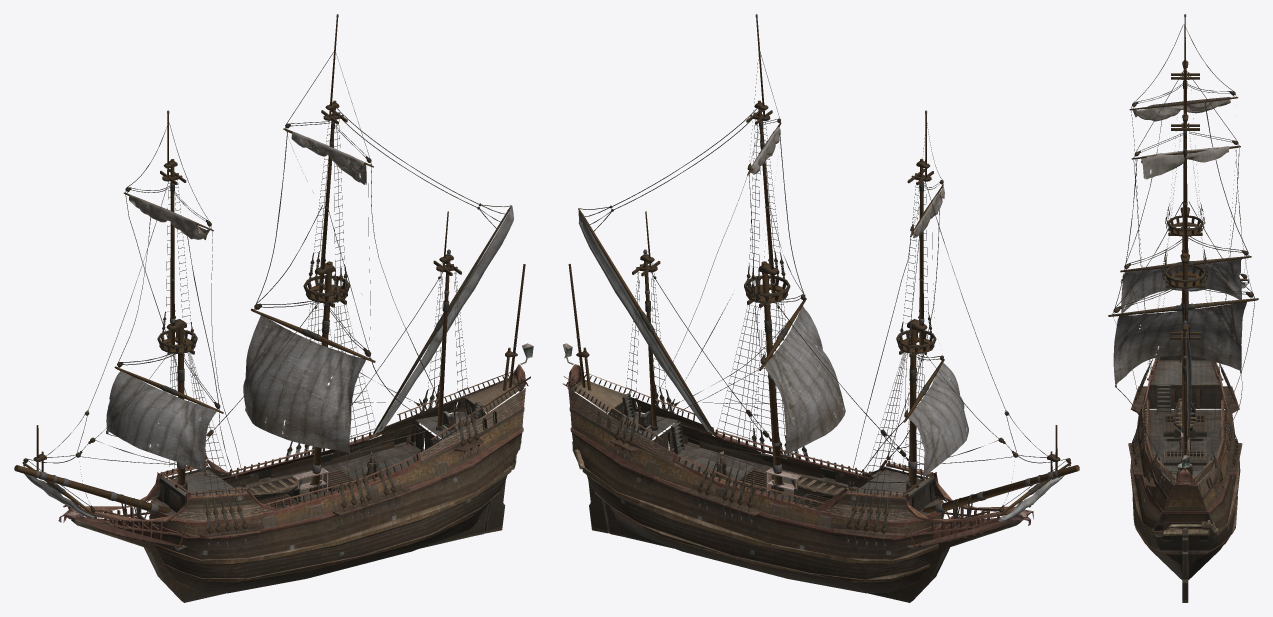
Rendered from objets.gltf.
The picture shows the model from 3 angles, left to right: view 1: azimuth 30°, elevation 25°; view 2: azimuth 150°, elevation 25°; view 3: azimuth 270°, elevation 25°; orthographic projection. The views are drawn at different scales.
Visible parts, largest first — view 1: Navire; view 2: Navire; view 3: Navire.
Part boxes in pixels (x1,y1,x2,y2): Navire: (14, 14, 533, 602); Navire: (562, 14, 1079, 602); Navire: (1108, 14, 1258, 602).
Bounding box in the file's own units: 24.06 × 24.66 × 6.81.
Materials: 18 (18 with a texture image).
